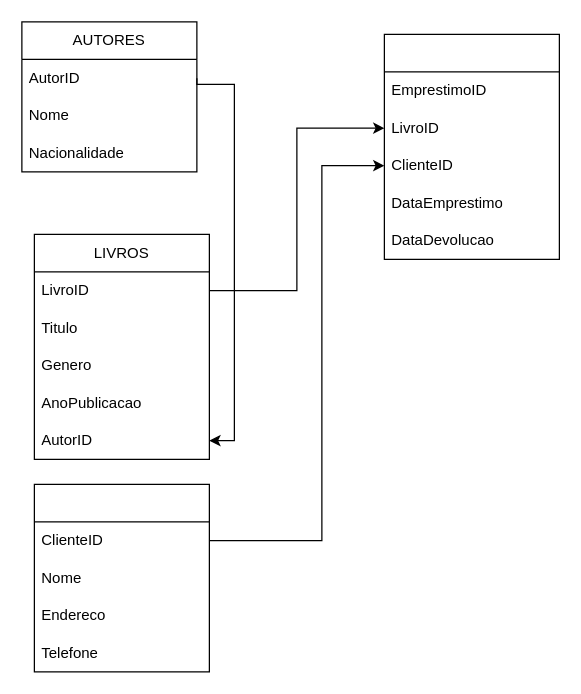
The diagram is 581 pixels wide and 694 high, and some of its shapes have lost their labels. The box of each missing label's shape, as (x1, y1, x2, y2) in pixels:
CLIENTES: (33, 483, 209, 672)
EMPRESTIMOS: (383, 33, 559, 259)
